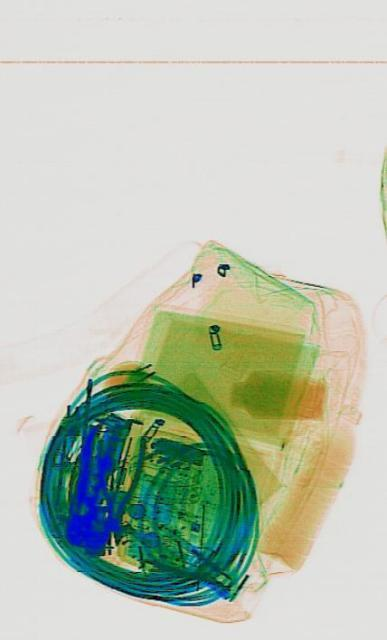Pliers: (89, 429, 144, 545)
